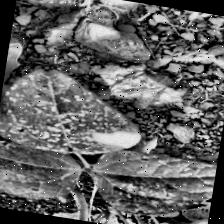ALS: (0, 61, 150, 168), (85, 144, 217, 220), (0, 136, 87, 206)
